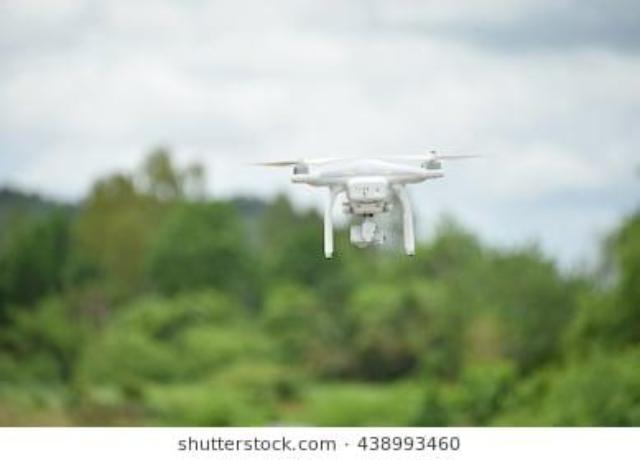drone: (210, 116, 500, 284)
